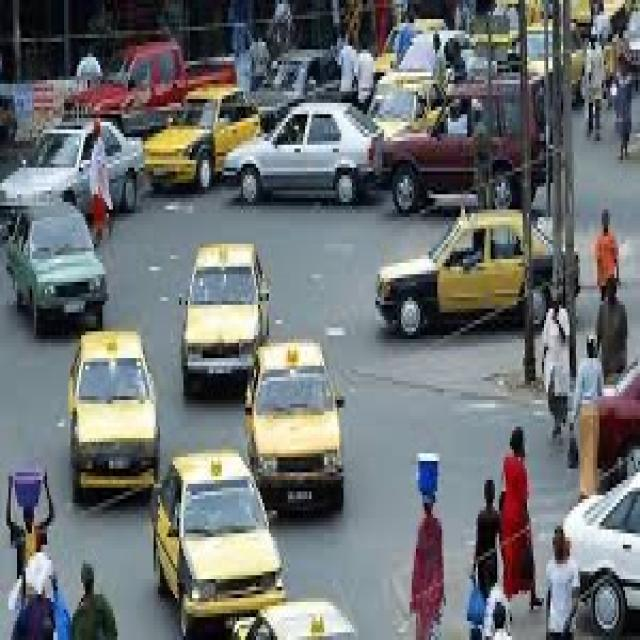particulier: (225, 104, 381, 204), (9, 206, 109, 338), (384, 88, 489, 213), (1, 123, 94, 222), (491, 82, 521, 206), (103, 122, 144, 209), (531, 82, 545, 193)
taxi: (156, 454, 287, 637), (376, 215, 526, 338), (249, 345, 345, 508), (71, 334, 160, 501), (185, 244, 270, 396), (146, 86, 261, 191)
